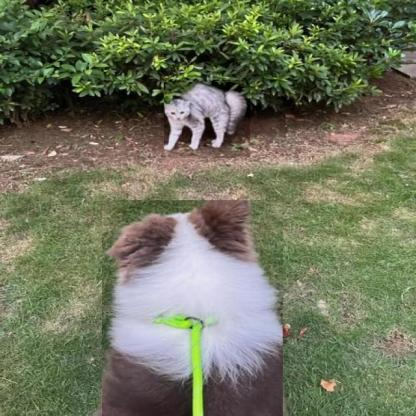cat: (164, 82, 250, 158)
dog: (102, 200, 283, 416)
